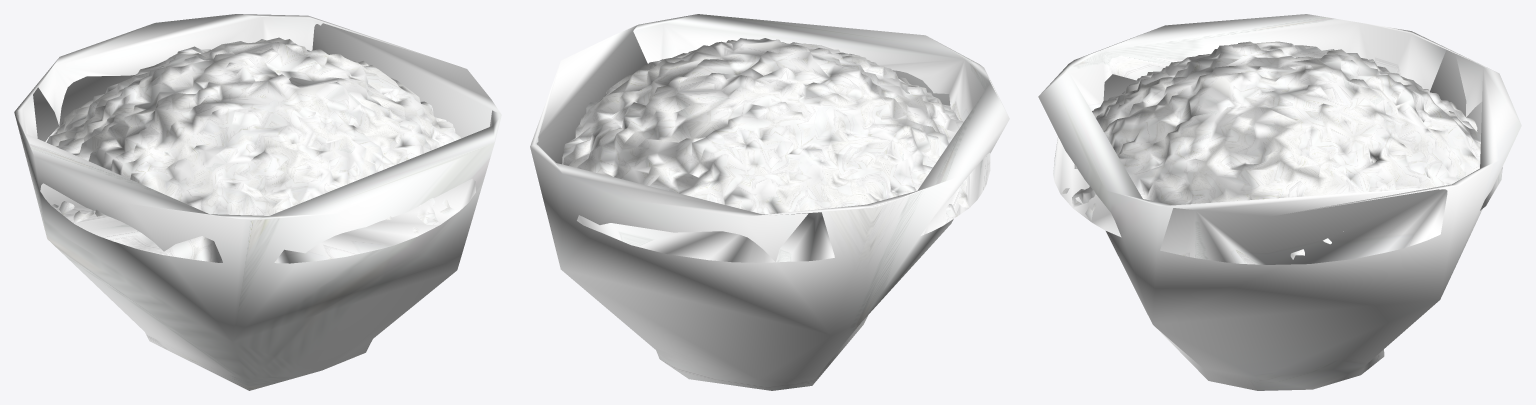
The model's file is rice-bowl.glb.
The picture shows the model from 3 angles, left to right: view 1: azimuth 30°, elevation 25°; view 2: azimuth 150°, elevation 25°; view 3: azimuth 270°, elevation 25°; orthographic projection.
Visible parts, largest first — view 1: mesh; view 2: mesh; view 3: mesh.
Part boxes in pixels (x1,y1,x2,y2): mesh: (14, 14, 501, 390); mesh: (530, 14, 1009, 390); mesh: (1038, 14, 1521, 390).
Bounding box in the file's own units: 1.95 × 1.24 × 1.96.
Materials: 1 (1 with a texture image).
